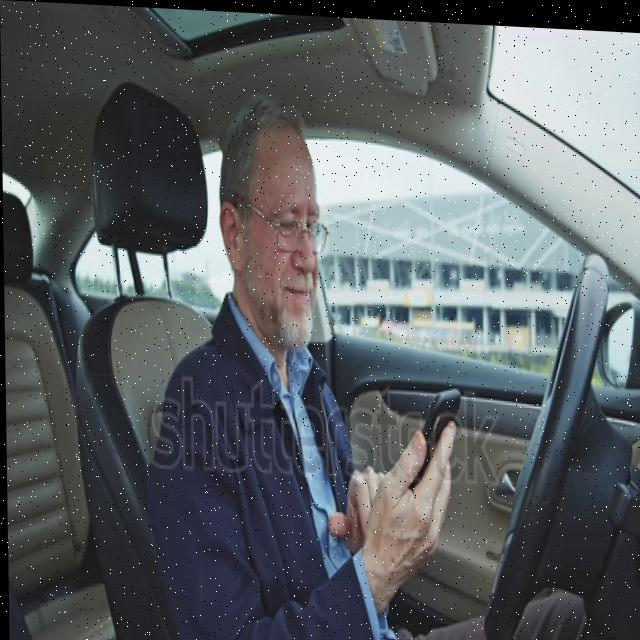PhoneCall: (402, 382, 463, 470)
